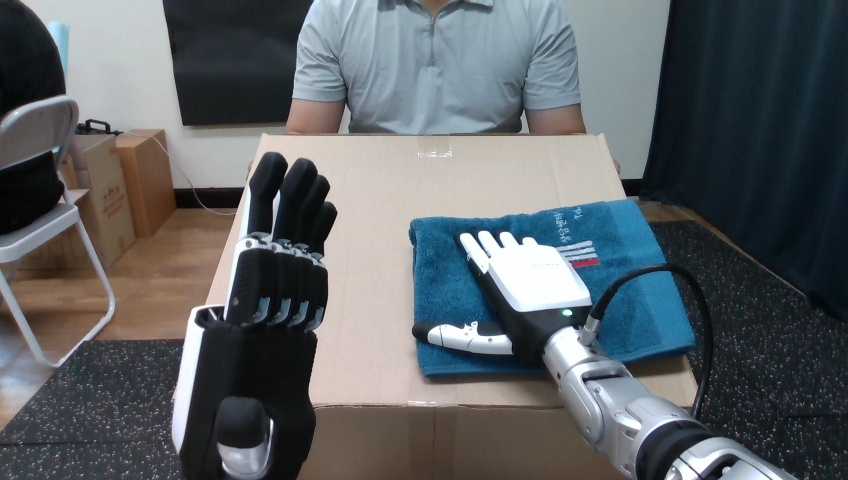left robot hand: (412, 230, 794, 479), (172, 152, 336, 478), (596, 270, 705, 415)
